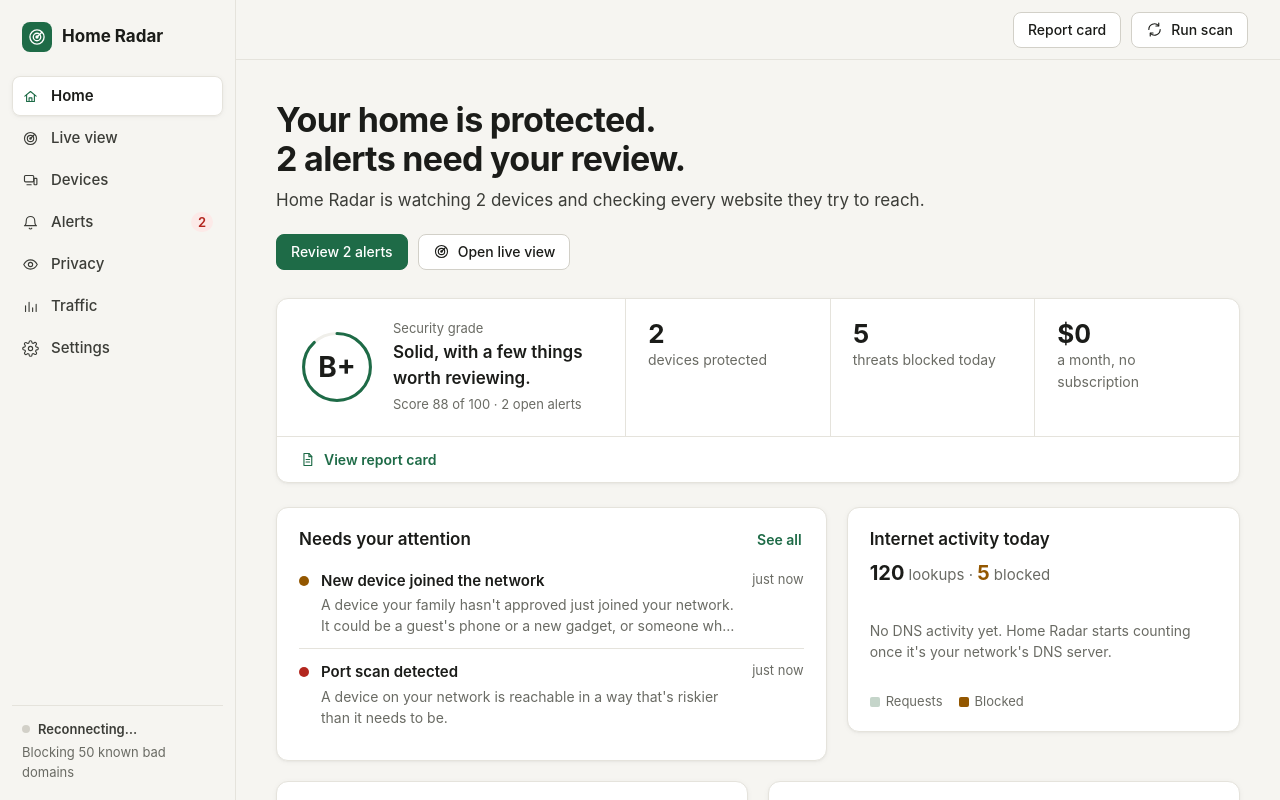
it: Run scan feedback › reports how many devices a scan found
Click the button "Run scan". click: (1190,30)
box: 1131,12 -> 1248,48
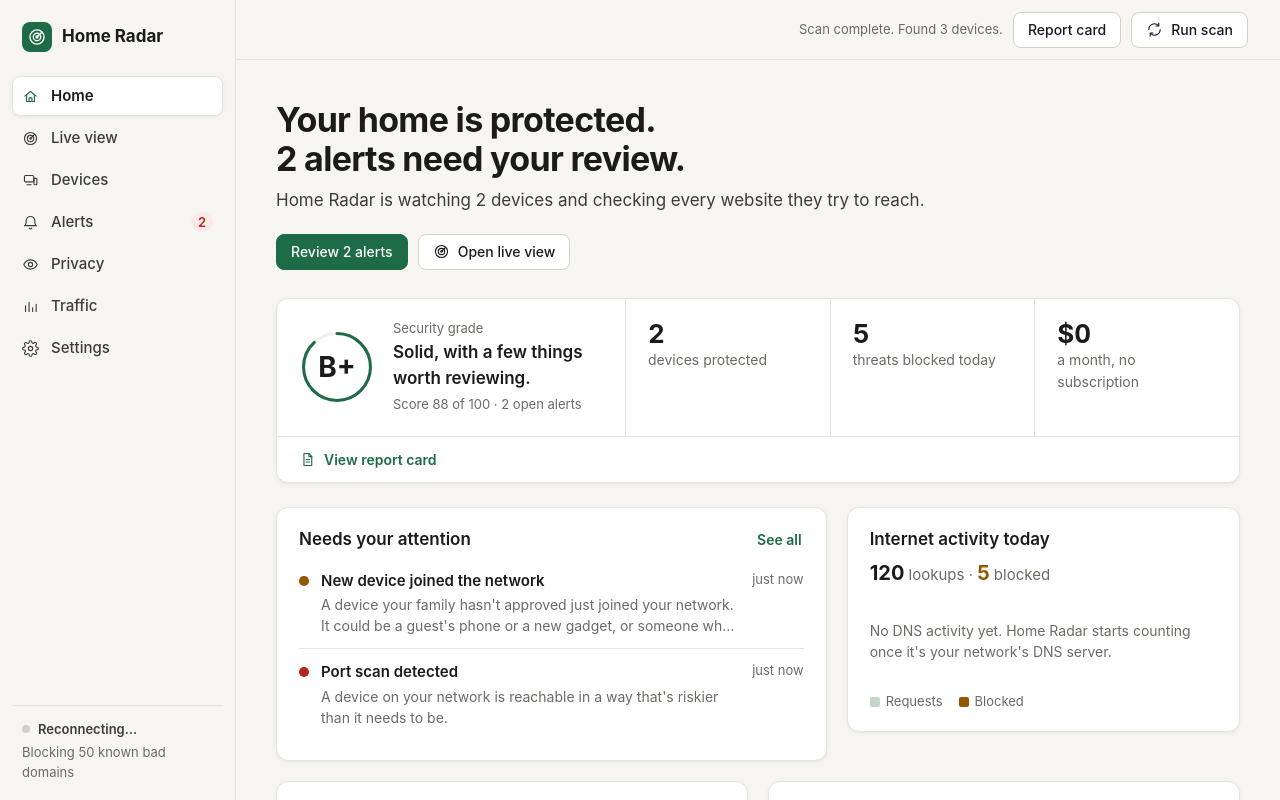
Now the text "Scan complete. Found 3 devices." is shown, box 799,20 -> 1003,39
